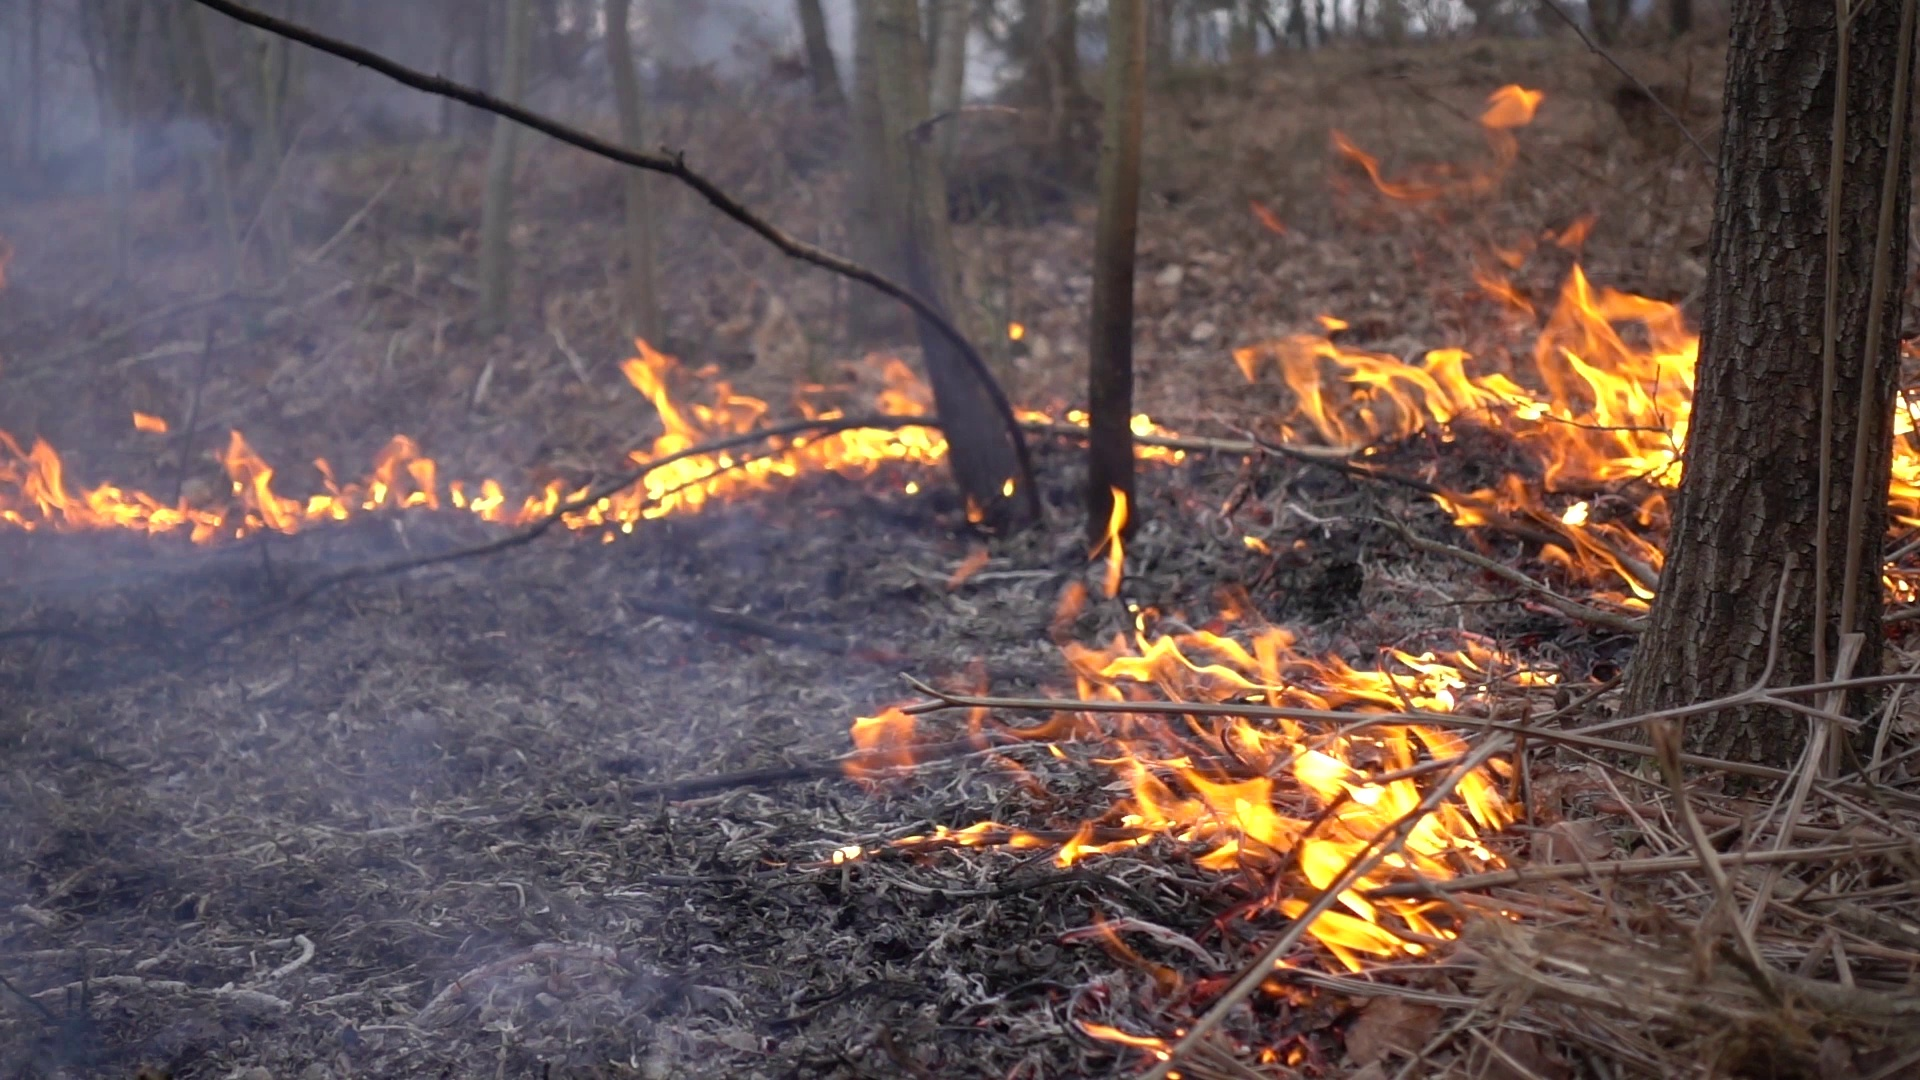fire: (1060, 616, 1509, 949), (1261, 284, 1687, 509), (626, 352, 716, 513), (1, 440, 160, 530), (315, 442, 433, 502), (808, 415, 944, 464), (1887, 382, 1920, 514), (225, 440, 276, 518)
